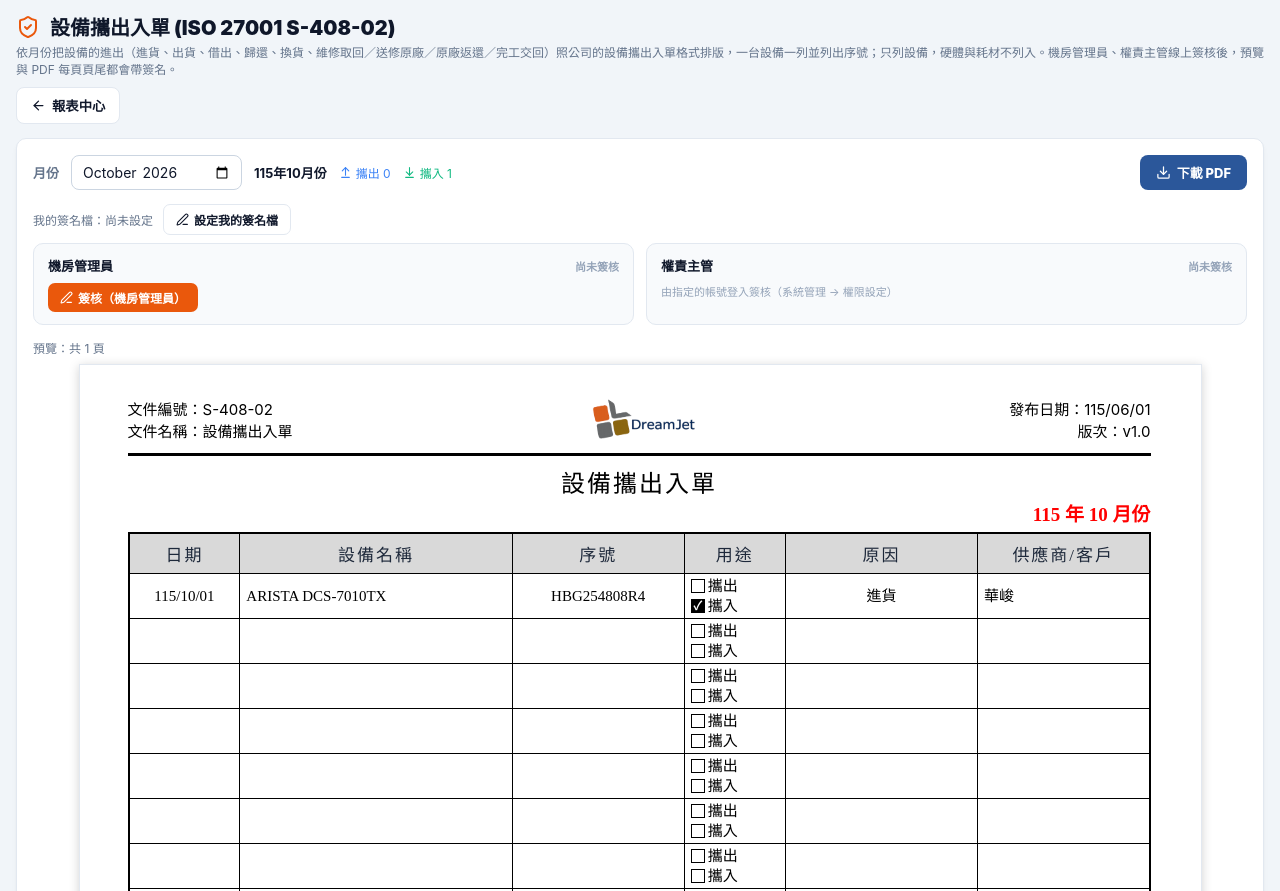
it: 線上簽核 › 清除重簽會清掉畫布，確認又變回不能按
The width and height of the screenshot is (1280, 891).
Click the button "簽核（機房管理員）".
click(123, 298)  # box top-left (48, 283), bottom-right (198, 312)
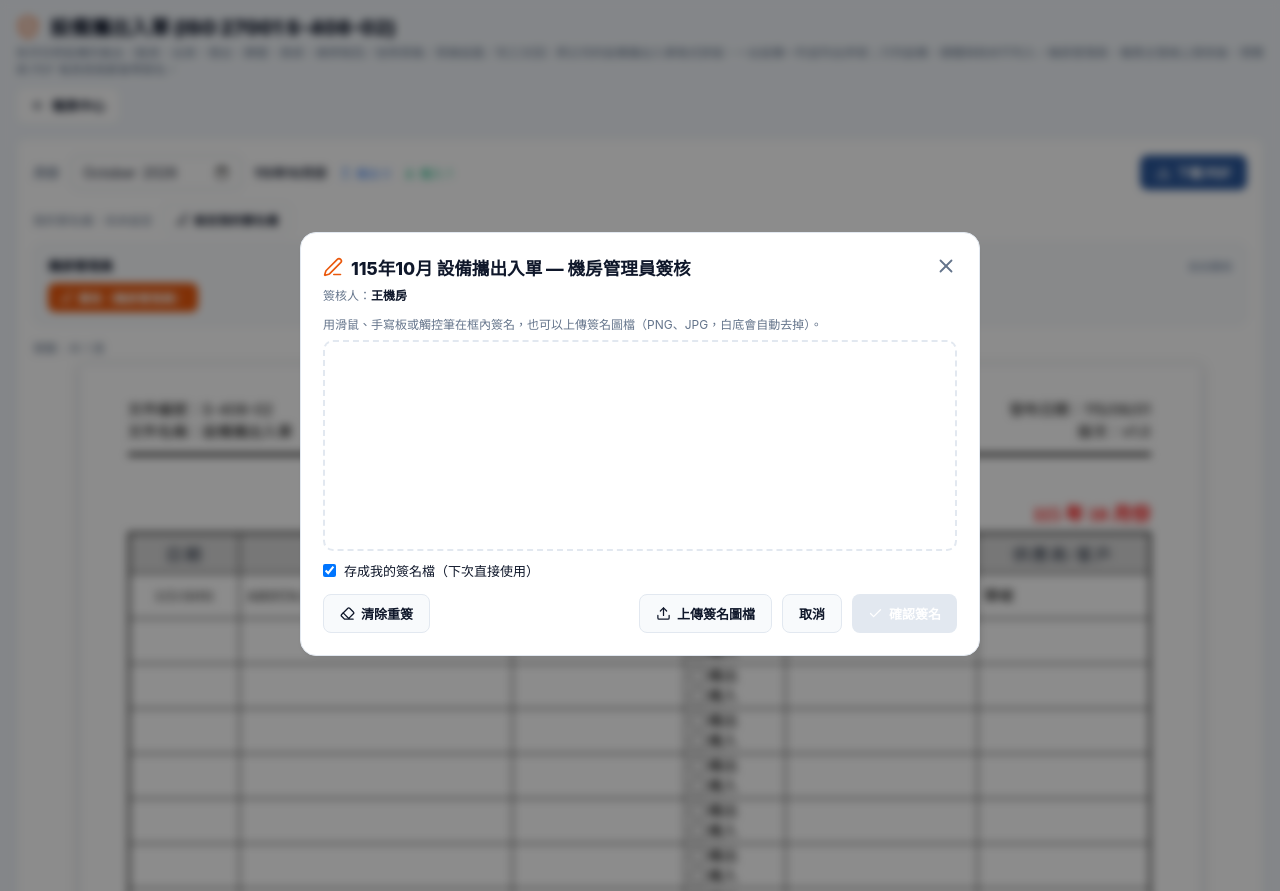
Press the mouse on the drawing named "簽名板" at {"x": 640, "y": 445}, box top-left (323, 340), bottom-right (957, 551)
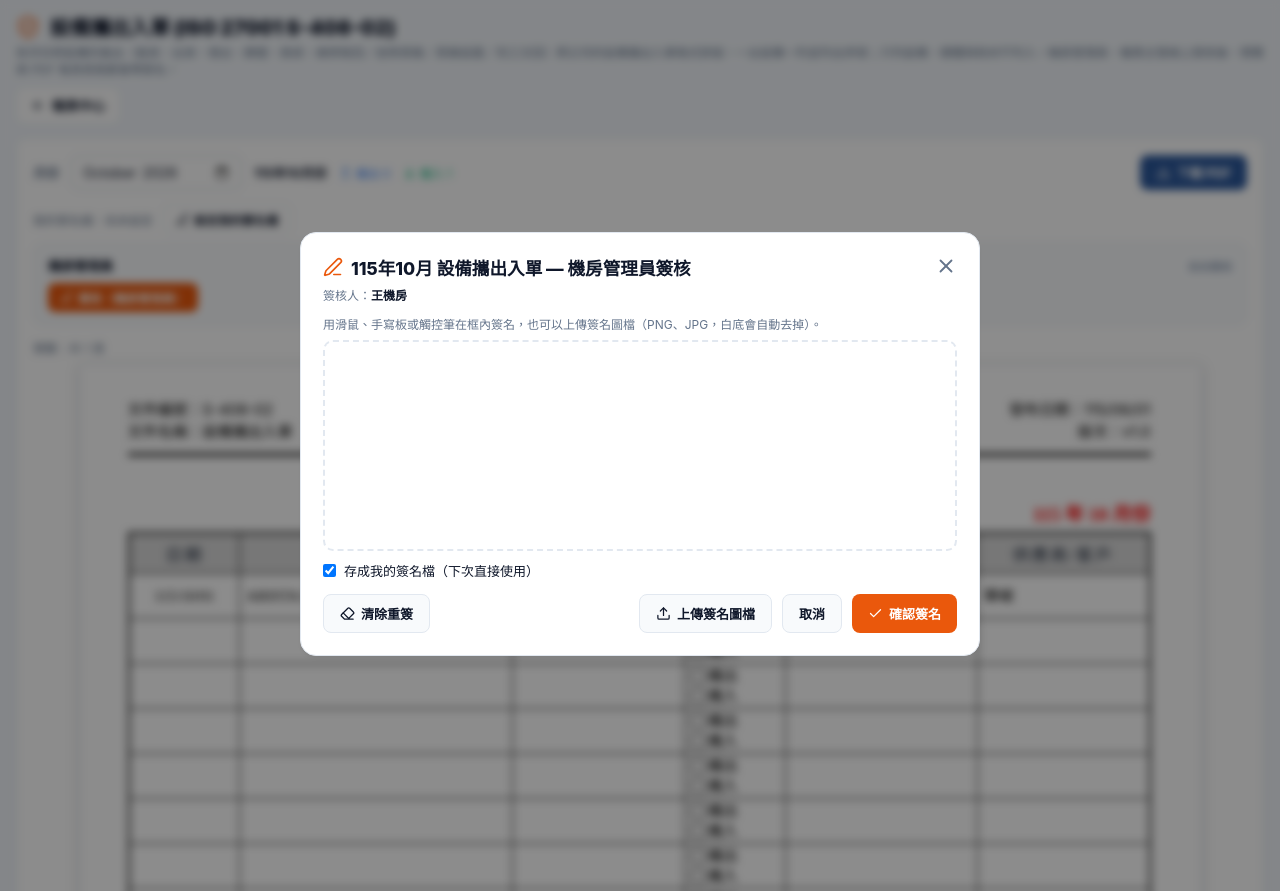
Expected: the button "確認簽名" is enabled, top-left (852, 594), bottom-right (957, 633)
Click the button "清除重簽".
click(376, 614)  # box top-left (323, 594), bottom-right (430, 633)
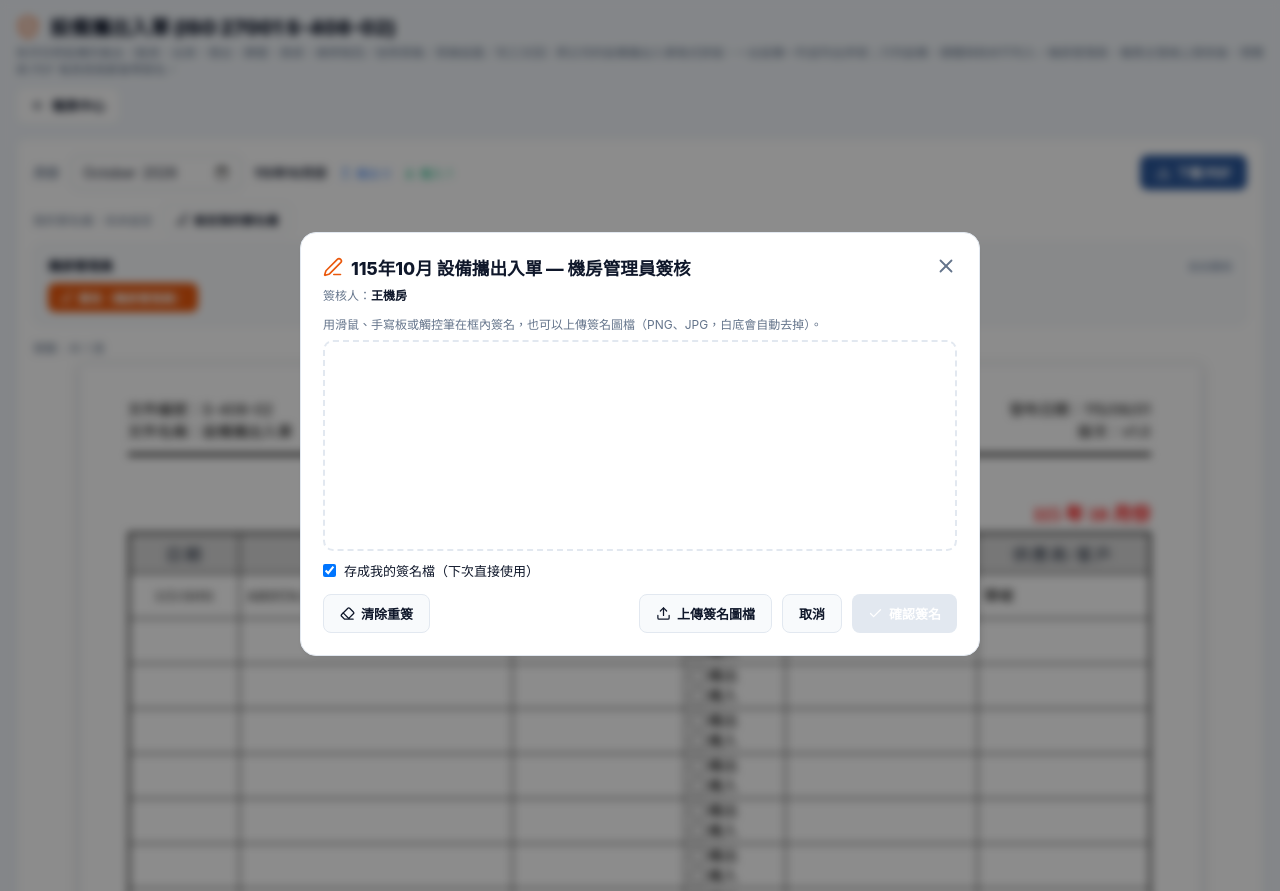
Expected: the button "確認簽名" is disabled, top-left (852, 594), bottom-right (957, 633)
Click the button "取消".
click(812, 614)  # box top-left (782, 594), bottom-right (842, 633)
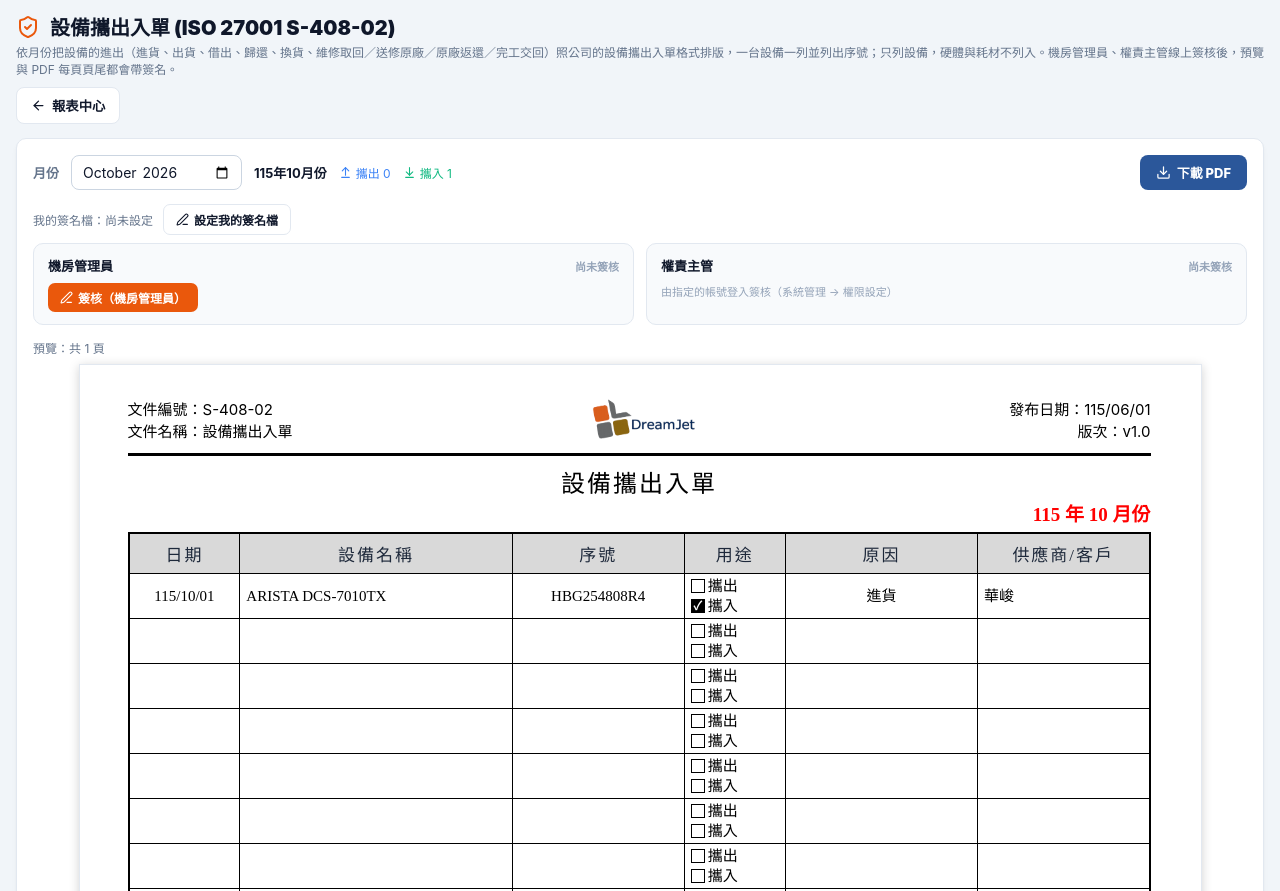
Expected: the dialog is gone
